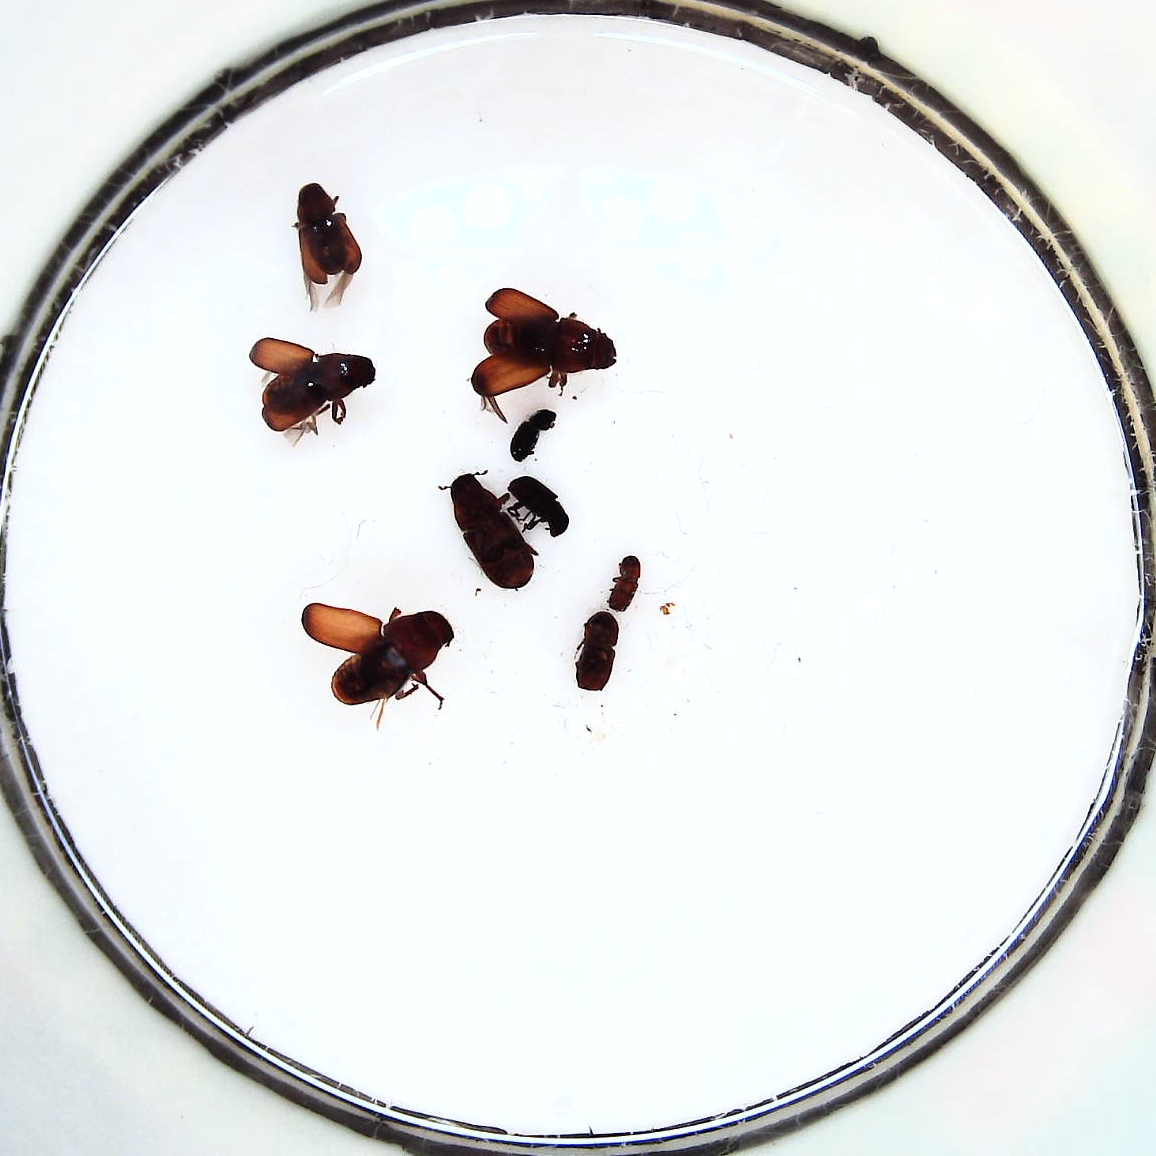Leconte: (302, 601, 453, 731), (471, 289, 619, 414), (245, 332, 378, 447), (448, 473, 529, 596), (291, 181, 368, 307)
Linnaeus: (573, 612, 629, 701)
acuminatus: (607, 550, 648, 611)
armandi: (509, 470, 575, 540)
coleoptera: (506, 407, 565, 465)
